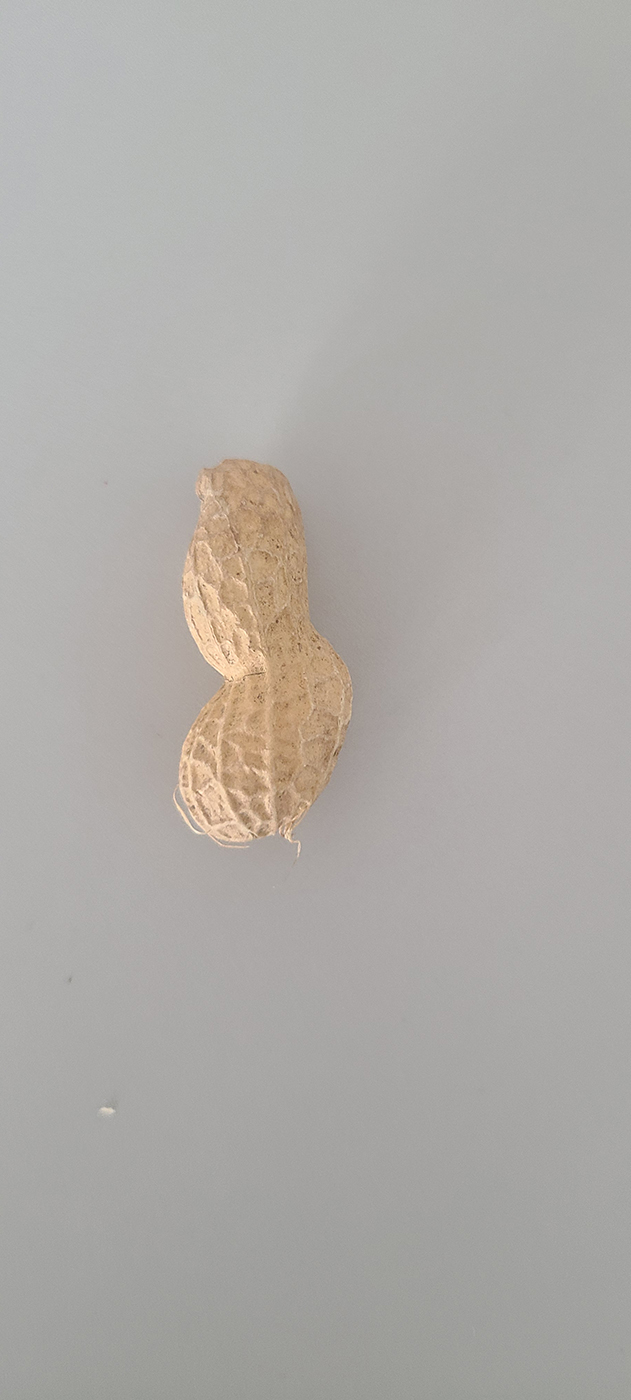h: (168, 460, 355, 850)
